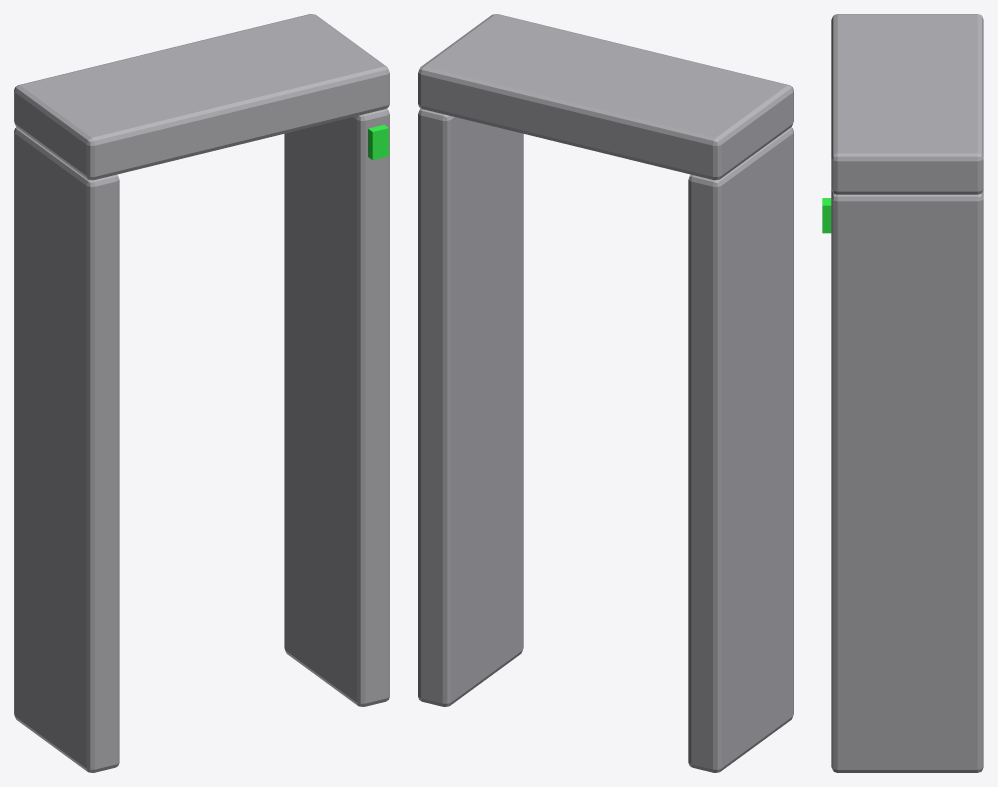
The model's file is metal_detector.glb.
The picture shows the model from 3 angles, left to right: view 1: azimuth 30°, elevation 25°; view 2: azimuth 150°, elevation 25°; view 3: azimuth 270°, elevation 25°; orthographic projection. The views are drawn at different scales.
Visible parts, largest first — view 1: metal_detector; view 2: metal_detector; view 3: metal_detector.
Part boxes in pixels (x1=…): metal_detector: x1=14, y1=14, x2=389, y2=772; metal_detector: x1=418, y1=14, x2=793, y2=772; metal_detector: x1=822, y1=14, x2=983, y2=772.
Size of the model in its own units: 1.12 by 2.25 by 0.53.
Materials: 1 (1 with a texture image).
